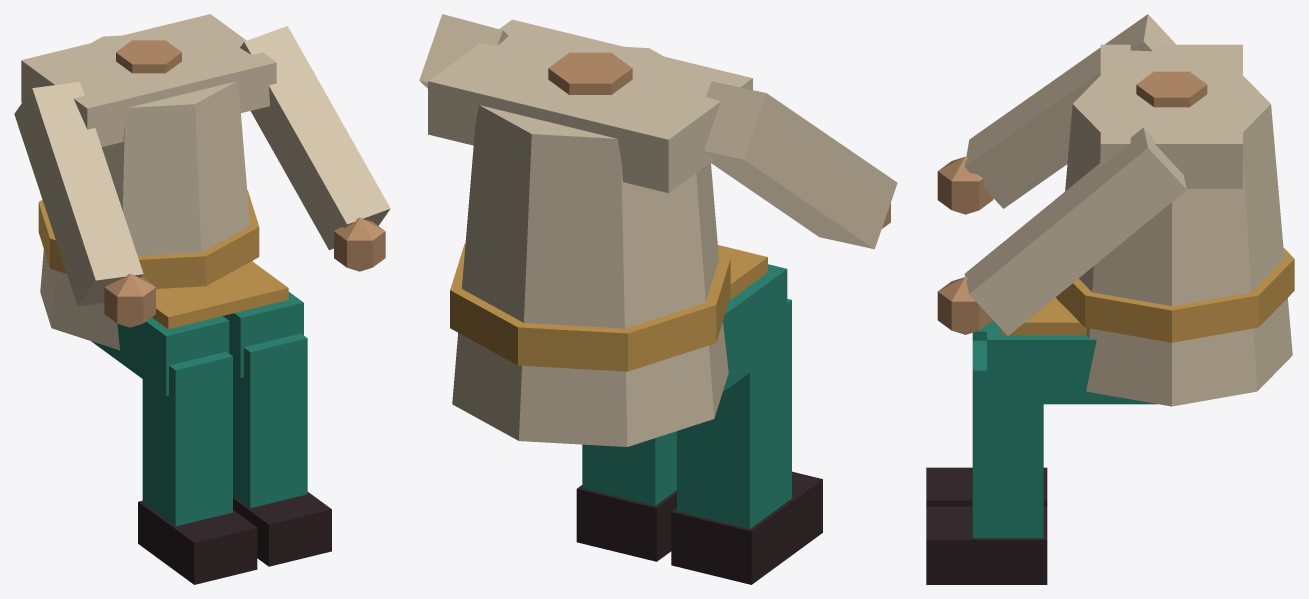
Rendered from figure_seated.gltf.
3 views of the same model, side by side, from view 1: azimuth 30°, elevation 25°; view 2: azimuth 150°, elevation 25°; view 3: azimuth 270°, elevation 25° (orthographic). The views are drawn at different scales.
Parts seen in each view (by area): view 1: arms, shins, coat, shoulders, boots, thighs, belt, apron, hands, neck; view 2: coat, shoulders, shins, arms, boots, belt, thighs, neck, apron; view 3: coat, arms, shoulders, shins, boots, belt, thighs, hands, neck, apron.
Part boxes in pixels (left/top/right/bottom): arms: left=14, top=26, right=390, bottom=306; shins: left=142, top=333, right=307, bottom=526; coat: left=40, top=35, right=252, bottom=350; shoulders: left=21, top=14, right=276, bottom=146; boots: left=138, top=492, right=331, bottom=584; thighs: left=91, top=292, right=303, bottom=396; belt: left=38, top=190, right=259, bottom=288; apron: left=152, top=261, right=288, bottom=329; hands: left=104, top=217, right=385, bottom=327; neck: left=116, top=40, right=181, bottom=73; coat: left=452, top=46, right=728, bottom=446; shoulders: left=428, top=19, right=752, bottom=192; shins: left=582, top=299, right=791, bottom=528; arms: left=419, top=14, right=897, bottom=249; boots: left=576, top=471, right=822, bottom=584; belt: left=450, top=243, right=730, bottom=371; thighs: left=723, top=264, right=787, bottom=391; neck: left=548, top=52, right=632, bottom=94; apron: left=718, top=245, right=767, bottom=299; coat: left=1065, top=76, right=1292, bottom=406; arms: left=964, top=14, right=1186, bottom=335; shoulders: left=1100, top=44, right=1242, bottom=188; shins: left=972, top=325, right=1043, bottom=538; boots: left=926, top=467, right=1047, bottom=584; belt: left=1055, top=247, right=1294, bottom=342; thighs: left=987, top=320, right=1157, bottom=404; hands: left=937, top=156, right=993, bottom=334; neck: left=1136, top=71, right=1207, bottom=107; apron: left=1001, top=297, right=1086, bottom=335.
Size of the model in its own units: 1.03 by 1.45 by 1.03.
